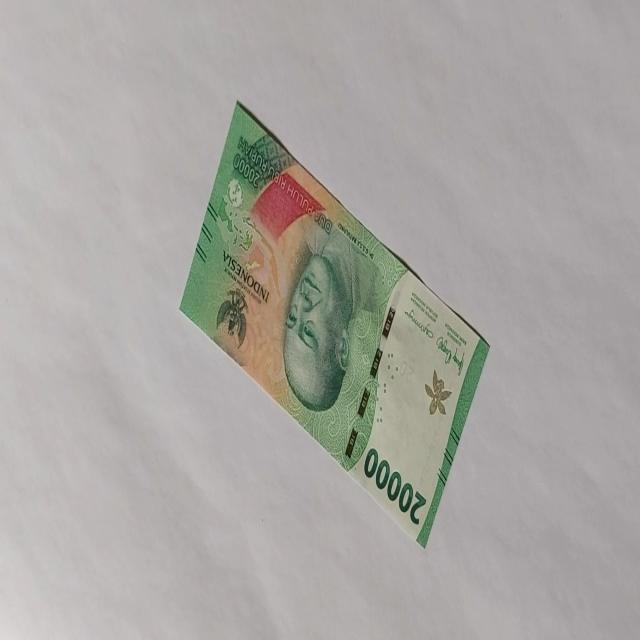dua puluh ribu rupiah: (178, 98, 491, 550), (363, 446, 427, 526)
